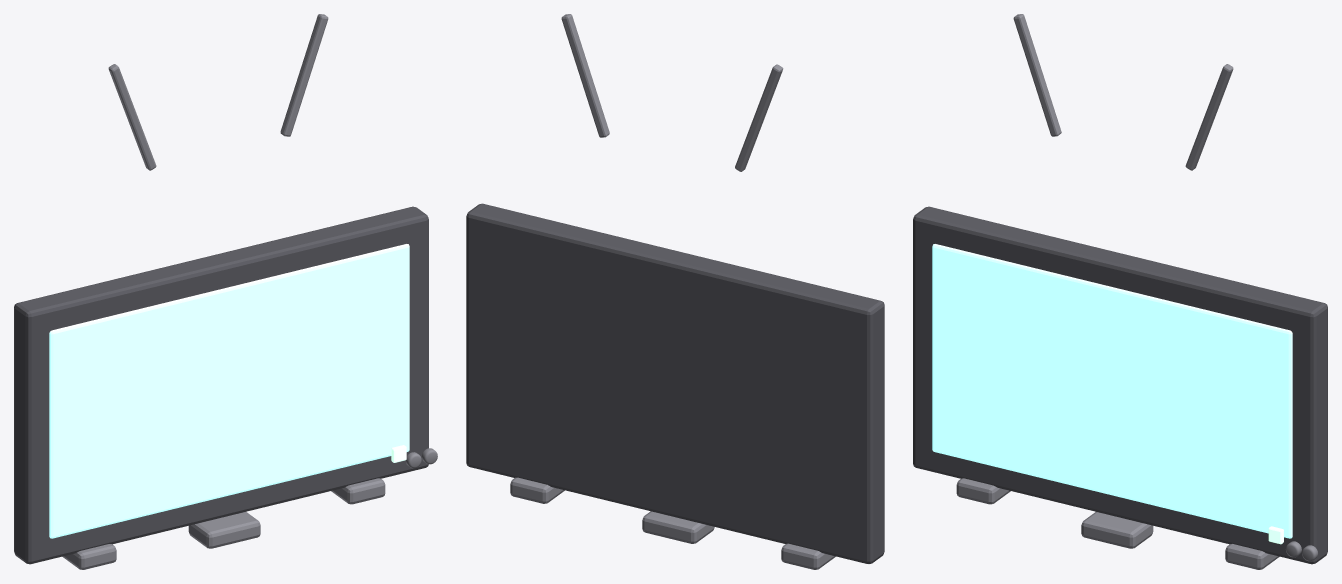
Rendered from телевизор.glb.
The picture shows the model from 3 angles, left to right: view 1: azimuth 30°, elevation 25°; view 2: azimuth 150°, elevation 25°; view 3: azimuth 330°, elevation 25°; orthographic projection.
Parts seen in each view (by area): view 1: телевизор; view 2: телевизор; view 3: телевизор.
Part boxes in pixels (left/top/right/bottom): телевизор: left=14, top=14, right=437, bottom=569; телевизор: left=466, top=14, right=884, bottom=569; телевизор: left=913, top=14, right=1327, bottom=569.
Bounding box in the file's own units: 1.51 × 1.75 × 0.17.
